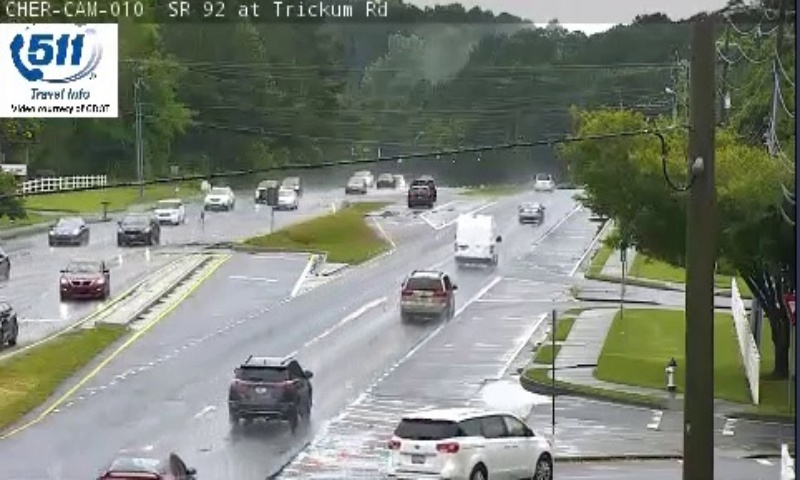car: (229, 355, 310, 418), (399, 270, 454, 315), (518, 203, 543, 225)
van: (454, 214, 497, 265)
